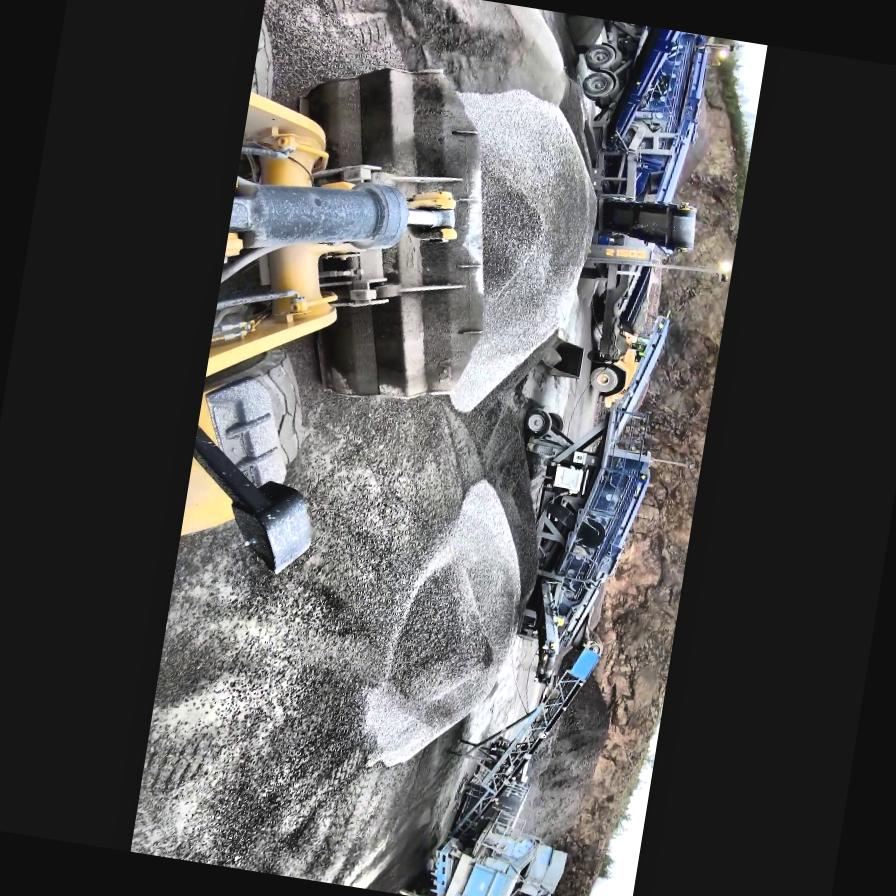anchor: (400, 183, 462, 244)
pile of gravel: (414, 96, 611, 420), (351, 466, 538, 783), (496, 651, 622, 896)
